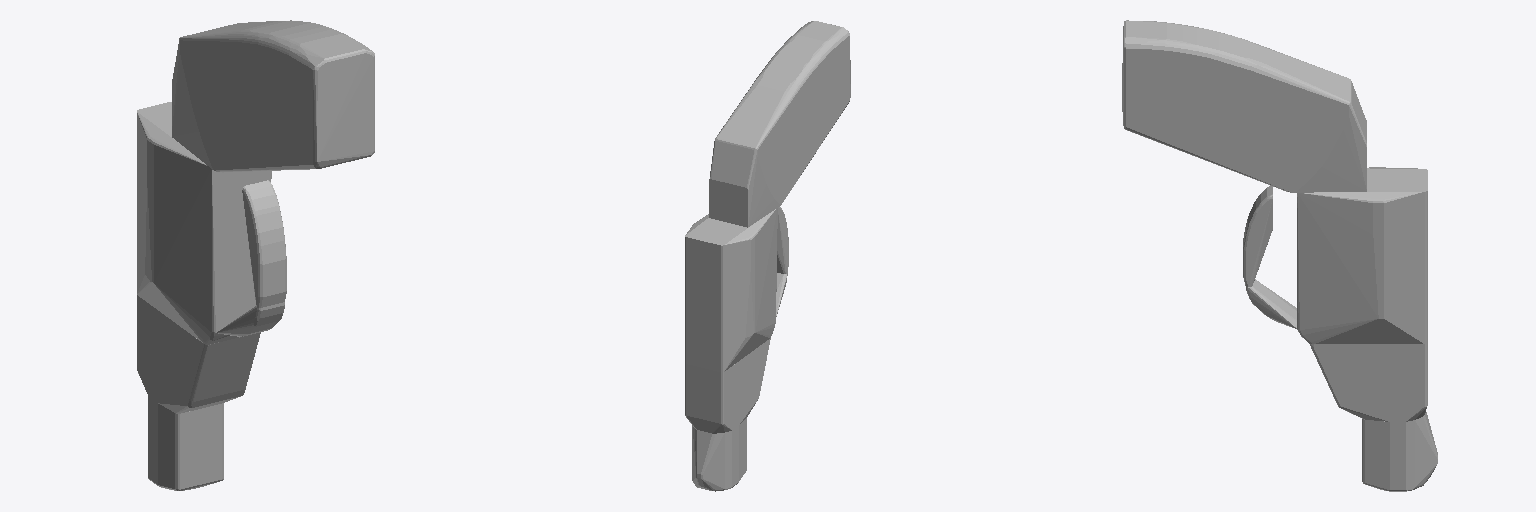
robot.urdf — root:
<robot name="root">
  <link name="link_coacd_convex_piece_0">
    <inertial>
      <origin xyz="0 0 0" rpy="0 0 0"/>
      <inertia ixx="1.53E-02" ixy="-2.57E-06" ixz="-1.10E-06" iyy="1.30E-02" iyz="4.83E-03" izz="2.60E-03"/>
    </inertial>
    <visual>
      <origin xyz="0 0 0" rpy="0 0 0"/>
      <geometry>
        <mesh filename="coacd_convex_piece_0.obj" scale="1.0000E+00 1.0000E+00 1.0000E+00"/>
      </geometry>
      <material name="">
        <color rgba="7.50E-01 7.50E-01 7.50E-01 1"/>
      </material>
    </visual>
    <collision>
      <origin xyz="0 0 0" rpy="0 0 0"/>
      <geometry>
        <mesh filename="coacd_convex_piece_0.obj" scale="1.0000E+00 1.0000E+00 1.0000E+00"/>
      </geometry>
    </collision>
  </link>
  <link name="link_coacd_convex_piece_1">
    <inertial>
      <origin xyz="0 0 0" rpy="0 0 0"/>
      <inertia ixx="6.22E-04" ixy="-3.26E-07" ixz="-3.61E-07" iyy="1.97E-04" iyz="-3.01E-04" izz="4.34E-04"/>
    </inertial>
    <visual>
      <origin xyz="0 0 0" rpy="0 0 0"/>
      <geometry>
        <mesh filename="coacd_convex_piece_1.obj" scale="1.0000E+00 1.0000E+00 1.0000E+00"/>
      </geometry>
      <material name="">
        <color rgba="7.50E-01 7.50E-01 7.50E-01 1"/>
      </material>
    </visual>
    <collision>
      <origin xyz="0 0 0" rpy="0 0 0"/>
      <geometry>
        <mesh filename="coacd_convex_piece_1.obj" scale="1.0000E+00 1.0000E+00 1.0000E+00"/>
      </geometry>
    </collision>
  </link>
  <joint name="link_coacd_convex_piece_1_joint" type="fixed">
    <origin xyz="0 0 0" rpy="0 0 0"/>
    <parent link="link_coacd_convex_piece_0"/>
    <child link="link_coacd_convex_piece_1"/>
  </joint>
  <link name="link_coacd_convex_piece_2">
    <inertial>
      <origin xyz="0 0 0" rpy="0 0 0"/>
      <inertia ixx="3.68E-04" ixy="-1.39E-07" ixz="-1.89E-07" iyy="1.78E-04" iyz="-1.86E-04" izz="2.00E-04"/>
    </inertial>
    <visual>
      <origin xyz="0 0 0" rpy="0 0 0"/>
      <geometry>
        <mesh filename="coacd_convex_piece_2.obj" scale="1.0000E+00 1.0000E+00 1.0000E+00"/>
      </geometry>
      <material name="">
        <color rgba="7.50E-01 7.50E-01 7.50E-01 1"/>
      </material>
    </visual>
    <collision>
      <origin xyz="0 0 0" rpy="0 0 0"/>
      <geometry>
        <mesh filename="coacd_convex_piece_2.obj" scale="1.0000E+00 1.0000E+00 1.0000E+00"/>
      </geometry>
    </collision>
  </link>
  <joint name="link_coacd_convex_piece_2_joint" type="fixed">
    <origin xyz="0 0 0" rpy="0 0 0"/>
    <parent link="link_coacd_convex_piece_1"/>
    <child link="link_coacd_convex_piece_2"/>
  </joint>
  <link name="link_coacd_convex_piece_3">
    <inertial>
      <origin xyz="0 0 0" rpy="0 0 0"/>
      <inertia ixx="2.83E-03" ixy="-1.51E-06" ixz="-3.39E-06" iyy="-1.51E-04" iyz="8.30E-04" izz="3.34E-03"/>
    </inertial>
    <visual>
      <origin xyz="0 0 0" rpy="0 0 0"/>
      <geometry>
        <mesh filename="coacd_convex_piece_3.obj" scale="1.0000E+00 1.0000E+00 1.0000E+00"/>
      </geometry>
      <material name="">
        <color rgba="7.50E-01 7.50E-01 7.50E-01 1"/>
      </material>
    </visual>
    <collision>
      <origin xyz="0 0 0" rpy="0 0 0"/>
      <geometry>
        <mesh filename="coacd_convex_piece_3.obj" scale="1.0000E+00 1.0000E+00 1.0000E+00"/>
      </geometry>
    </collision>
  </link>
  <joint name="link_coacd_convex_piece_3_joint" type="fixed">
    <origin xyz="0 0 0" rpy="0 0 0"/>
    <parent link="link_coacd_convex_piece_2"/>
    <child link="link_coacd_convex_piece_3"/>
  </joint>
  <link name="link_coacd_convex_piece_4">
    <inertial>
      <origin xyz="0 0 0" rpy="0 0 0"/>
      <inertia ixx="-6.26E-06" ixy="-1.81E-08" ixz="-1.12E-08" iyy="1.27E-06" iyz="1.18E-05" izz="-5.86E-06"/>
    </inertial>
    <visual>
      <origin xyz="0 0 0" rpy="0 0 0"/>
      <geometry>
        <mesh filename="coacd_convex_piece_4.obj" scale="1.0000E+00 1.0000E+00 1.0000E+00"/>
      </geometry>
      <material name="">
        <color rgba="7.50E-01 7.50E-01 7.50E-01 1"/>
      </material>
    </visual>
    <collision>
      <origin xyz="0 0 0" rpy="0 0 0"/>
      <geometry>
        <mesh filename="coacd_convex_piece_4.obj" scale="1.0000E+00 1.0000E+00 1.0000E+00"/>
      </geometry>
    </collision>
  </link>
  <joint name="link_coacd_convex_piece_4_joint" type="fixed">
    <origin xyz="0 0 0" rpy="0 0 0"/>
    <parent link="link_coacd_convex_piece_3"/>
    <child link="link_coacd_convex_piece_4"/>
  </joint>
  <link name="link_coacd_convex_piece_5">
    <inertial>
      <origin xyz="0 0 0" rpy="0 0 0"/>
      <inertia ixx="3.10E-03" ixy="-2.14E-07" ixz="-7.81E-07" iyy="1.88E-03" iyz="1.94E-03" izz="1.29E-03"/>
    </inertial>
    <visual>
      <origin xyz="0 0 0" rpy="0 0 0"/>
      <geometry>
        <mesh filename="coacd_convex_piece_5.obj" scale="1.0000E+00 1.0000E+00 1.0000E+00"/>
      </geometry>
      <material name="">
        <color rgba="7.50E-01 7.50E-01 7.50E-01 1"/>
      </material>
    </visual>
    <collision>
      <origin xyz="0 0 0" rpy="0 0 0"/>
      <geometry>
        <mesh filename="coacd_convex_piece_5.obj" scale="1.0000E+00 1.0000E+00 1.0000E+00"/>
      </geometry>
    </collision>
  </link>
  <joint name="link_coacd_convex_piece_5_joint" type="fixed">
    <origin xyz="0 0 0" rpy="0 0 0"/>
    <parent link="link_coacd_convex_piece_4"/>
    <child link="link_coacd_convex_piece_5"/>
  </joint>
  <link name="link_coacd_convex_piece_6">
    <inertial>
      <origin xyz="0 0 0" rpy="0 0 0"/>
      <inertia ixx="4.06E-03" ixy="1.82E-06" ixz="-4.87E-06" iyy="3.16E-03" iyz="1.94E-03" izz="9.34E-04"/>
    </inertial>
    <visual>
      <origin xyz="0 0 0" rpy="0 0 0"/>
      <geometry>
        <mesh filename="coacd_convex_piece_6.obj" scale="1.0000E+00 1.0000E+00 1.0000E+00"/>
      </geometry>
      <material name="">
        <color rgba="7.50E-01 7.50E-01 7.50E-01 1"/>
      </material>
    </visual>
    <collision>
      <origin xyz="0 0 0" rpy="0 0 0"/>
      <geometry>
        <mesh filename="coacd_convex_piece_6.obj" scale="1.0000E+00 1.0000E+00 1.0000E+00"/>
      </geometry>
    </collision>
  </link>
  <joint name="link_coacd_convex_piece_6_joint" type="fixed">
    <origin xyz="0 0 0" rpy="0 0 0"/>
    <parent link="link_coacd_convex_piece_5"/>
    <child link="link_coacd_convex_piece_6"/>
  </joint>
  <link name="link_coacd_convex_piece_7">
    <inertial>
      <origin xyz="0 0 0" rpy="0 0 0"/>
      <inertia ixx="-3.39E-05" ixy="-2.76E-08" ixz="-5.89E-08" iyy="-2.71E-05" iyz="3.12E-05" izz="-5.22E-06"/>
    </inertial>
    <visual>
      <origin xyz="0 0 0" rpy="0 0 0"/>
      <geometry>
        <mesh filename="coacd_convex_piece_7.obj" scale="1.0000E+00 1.0000E+00 1.0000E+00"/>
      </geometry>
      <material name="">
        <color rgba="7.50E-01 7.50E-01 7.50E-01 1"/>
      </material>
    </visual>
    <collision>
      <origin xyz="0 0 0" rpy="0 0 0"/>
      <geometry>
        <mesh filename="coacd_convex_piece_7.obj" scale="1.0000E+00 1.0000E+00 1.0000E+00"/>
      </geometry>
    </collision>
  </link>
  <joint name="link_coacd_convex_piece_7_joint" type="fixed">
    <origin xyz="0 0 0" rpy="0 0 0"/>
    <parent link="link_coacd_convex_piece_6"/>
    <child link="link_coacd_convex_piece_7"/>
  </joint>
  <link name="link_coacd_convex_piece_8">
    <inertial>
      <origin xyz="0 0 0" rpy="0 0 0"/>
      <inertia ixx="-1.99E-06" ixy="-3.20E-08" ixz="-2.49E-08" iyy="1.24E-05" iyz="1.83E-05" izz="-1.06E-05"/>
    </inertial>
    <visual>
      <origin xyz="0 0 0" rpy="0 0 0"/>
      <geometry>
        <mesh filename="coacd_convex_piece_8.obj" scale="1.0000E+00 1.0000E+00 1.0000E+00"/>
      </geometry>
      <material name="">
        <color rgba="7.50E-01 7.50E-01 7.50E-01 1"/>
      </material>
    </visual>
    <collision>
      <origin xyz="0 0 0" rpy="0 0 0"/>
      <geometry>
        <mesh filename="coacd_convex_piece_8.obj" scale="1.0000E+00 1.0000E+00 1.0000E+00"/>
      </geometry>
    </collision>
  </link>
  <joint name="link_coacd_convex_piece_8_joint" type="fixed">
    <origin xyz="0 0 0" rpy="0 0 0"/>
    <parent link="link_coacd_convex_piece_7"/>
    <child link="link_coacd_convex_piece_8"/>
  </joint>
</robot>

--- Facts derived from the render (not from the file) ---
Views: 3 orthographic renders of the robot side by side, from view 1: azimuth 30°, elevation 25°; view 2: azimuth 150°, elevation 25°; view 3: azimuth 270°, elevation 25°.
Model root with 9 links and 8 joints (8 fixed), rooted at link_coacd_convex_piece_0, posed all joints at 0.
Links seen in each view (by area): view 1: link_coacd_convex_piece_0, link_coacd_convex_piece_3, link_coacd_convex_piece_5, link_coacd_convex_piece_6, link_coacd_convex_piece_7, link_coacd_convex_piece_4; view 2: link_coacd_convex_piece_0, link_coacd_convex_piece_3, link_coacd_convex_piece_5, link_coacd_convex_piece_6, link_coacd_convex_piece_7; view 3: link_coacd_convex_piece_0, link_coacd_convex_piece_3, link_coacd_convex_piece_5, link_coacd_convex_piece_6, link_coacd_convex_piece_7, link_coacd_convex_piece_4.
Boxes of the visible links, bbox=[...] form: link_coacd_convex_piece_0: bbox=[172, 20, 374, 172]; link_coacd_convex_piece_3: bbox=[137, 102, 271, 344]; link_coacd_convex_piece_5: bbox=[137, 295, 260, 413]; link_coacd_convex_piece_6: bbox=[148, 396, 223, 490]; link_coacd_convex_piece_7: bbox=[242, 180, 286, 307]; link_coacd_convex_piece_4: bbox=[217, 302, 284, 336]; link_coacd_convex_piece_0: bbox=[709, 21, 850, 227]; link_coacd_convex_piece_3: bbox=[685, 208, 777, 371]; link_coacd_convex_piece_5: bbox=[685, 338, 770, 433]; link_coacd_convex_piece_6: bbox=[692, 418, 746, 491]; link_coacd_convex_piece_7: bbox=[777, 207, 788, 273]; link_coacd_convex_piece_0: bbox=[1122, 20, 1366, 192]; link_coacd_convex_piece_3: bbox=[1297, 167, 1427, 343]; link_coacd_convex_piece_5: bbox=[1310, 343, 1427, 421]; link_coacd_convex_piece_6: bbox=[1362, 412, 1437, 491]; link_coacd_convex_piece_7: bbox=[1243, 186, 1272, 286]; link_coacd_convex_piece_4: bbox=[1246, 279, 1296, 328].
Size in the robot's own frame: 0.2695 by 1.05 by 1.65 metres.
Meshes: 9 distinct files referenced, 6 mesh visuals loaded (6 OBJ); not drawn: 3 (reference not matched to a file when rendering).